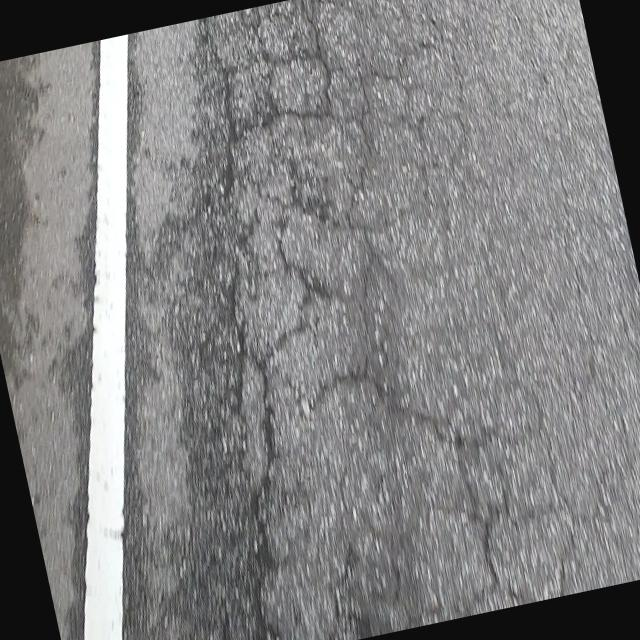Retak-Buaya: (194, 1, 570, 640)
